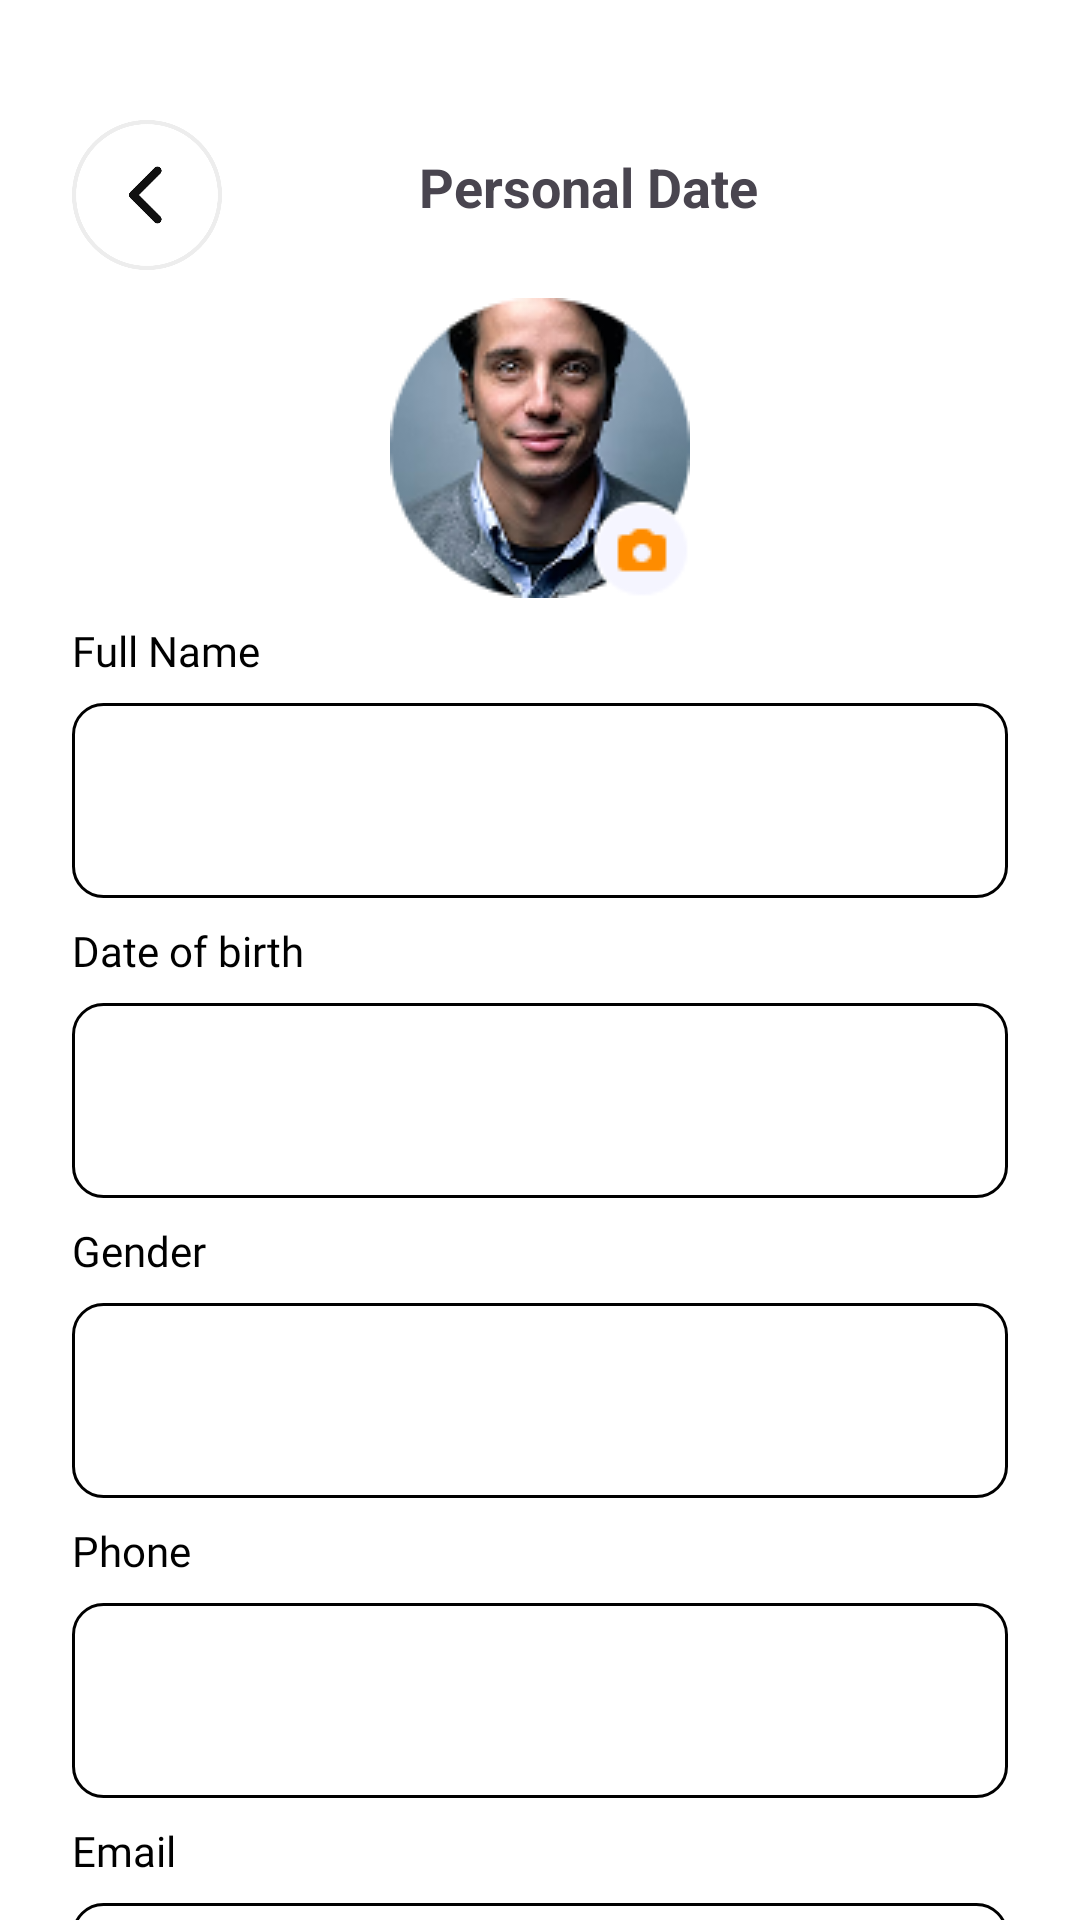

Icon click points for this 1080 × 1920 phone screenshot, format [x,y]:
back: [145,195]
profile: [540,448]
